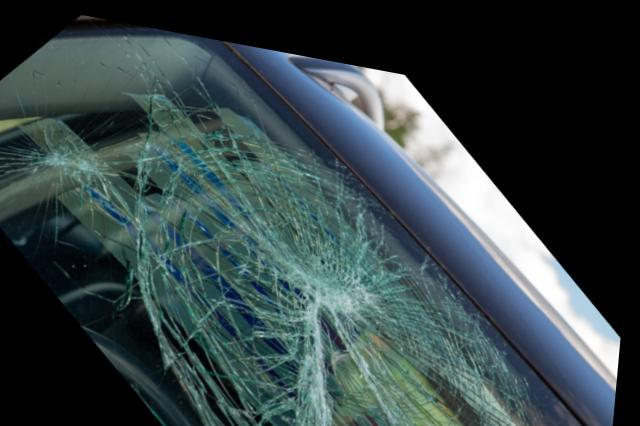glass shatter: (0, 18, 610, 426)
